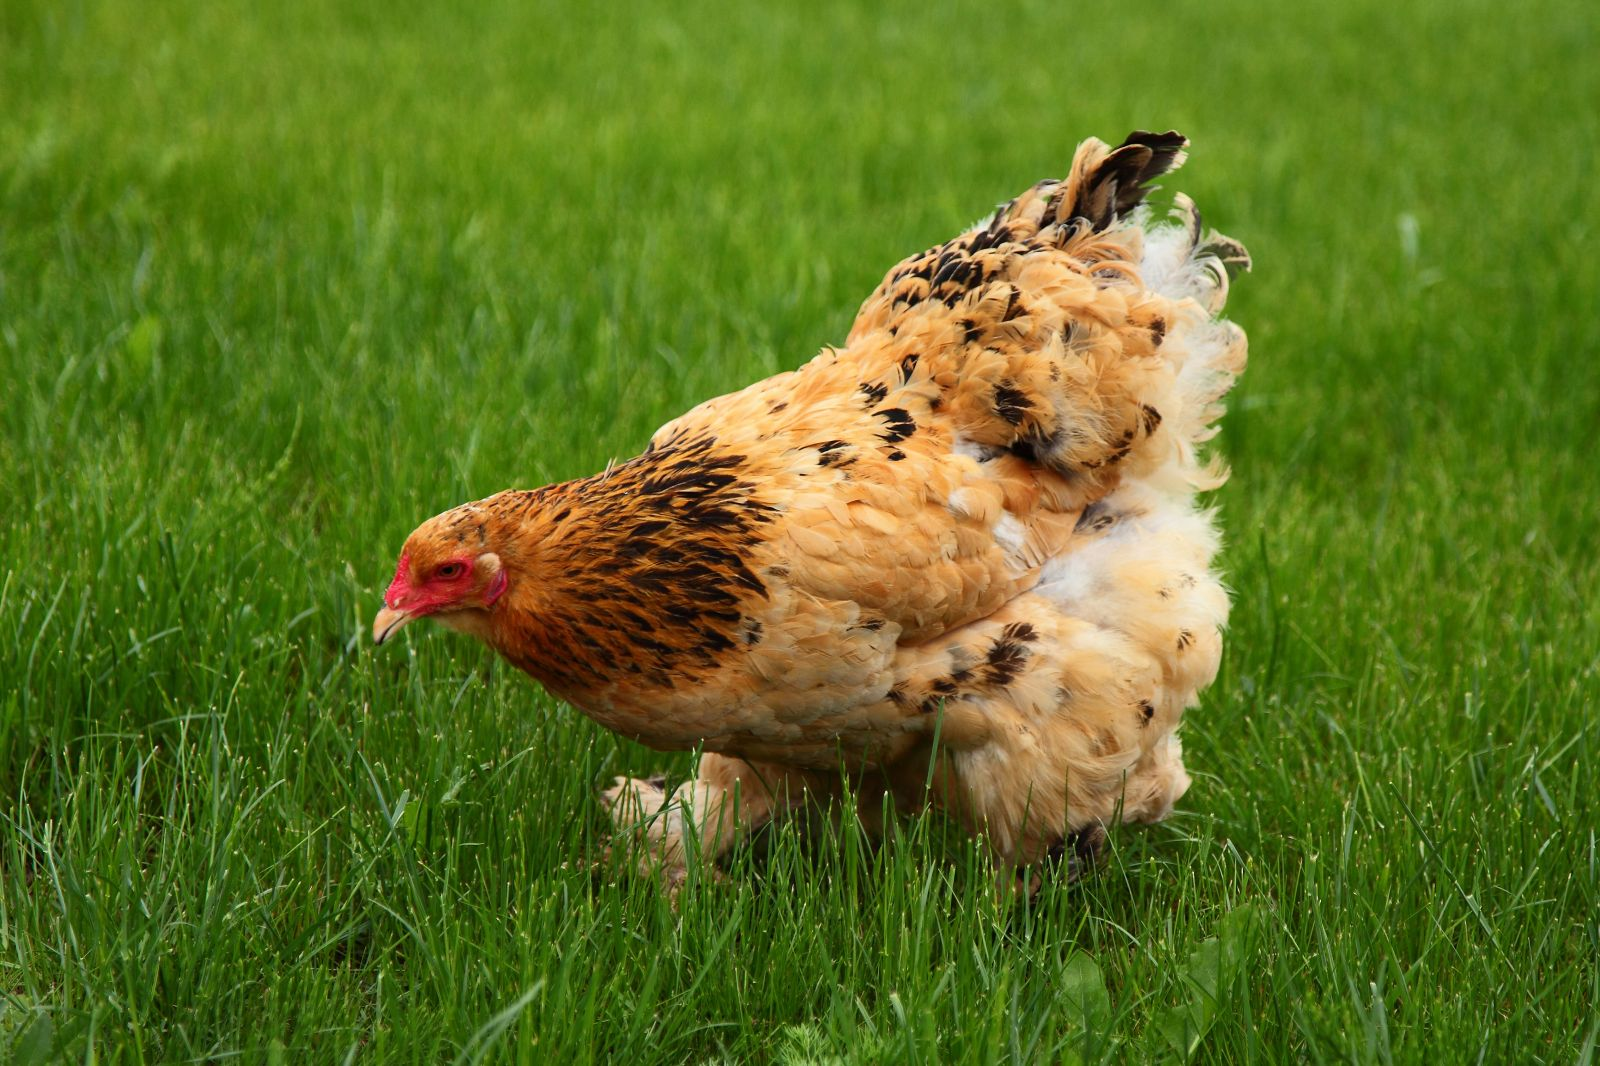chicken: (370, 123, 1260, 897)
